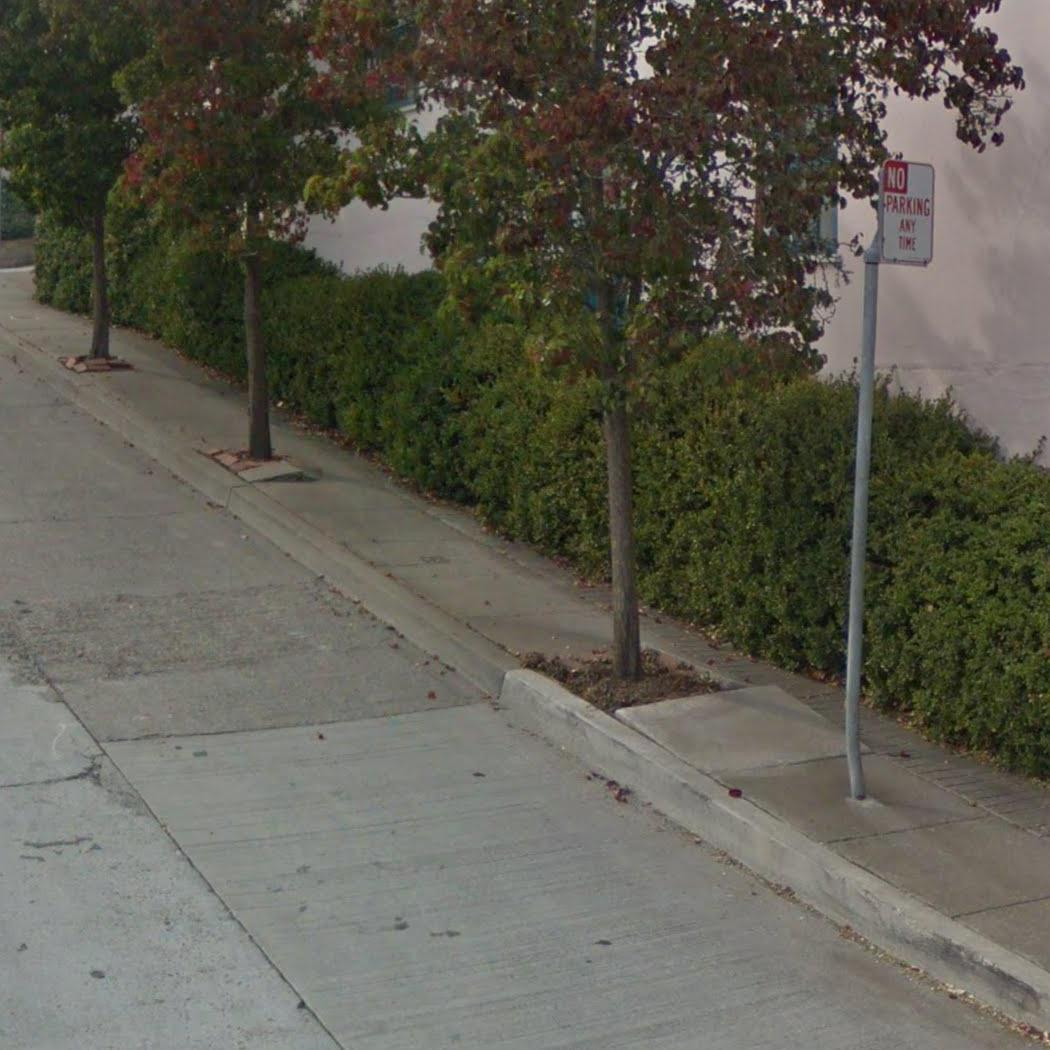No Parking Anytime: (875, 159, 938, 269)
